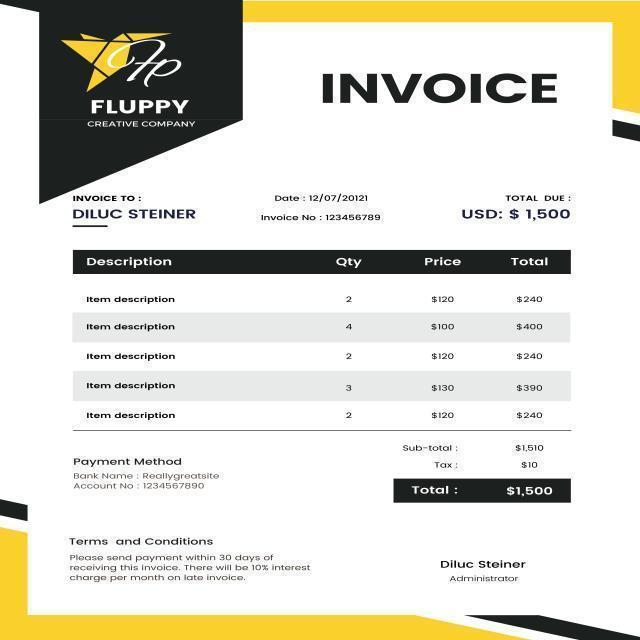paragraph: (307, 54, 579, 133), (54, 17, 216, 134), (381, 437, 588, 518), (59, 531, 323, 594), (67, 447, 229, 508), (251, 177, 398, 236), (452, 177, 609, 229), (424, 541, 555, 596), (71, 183, 215, 233)
table: (68, 241, 605, 425)
